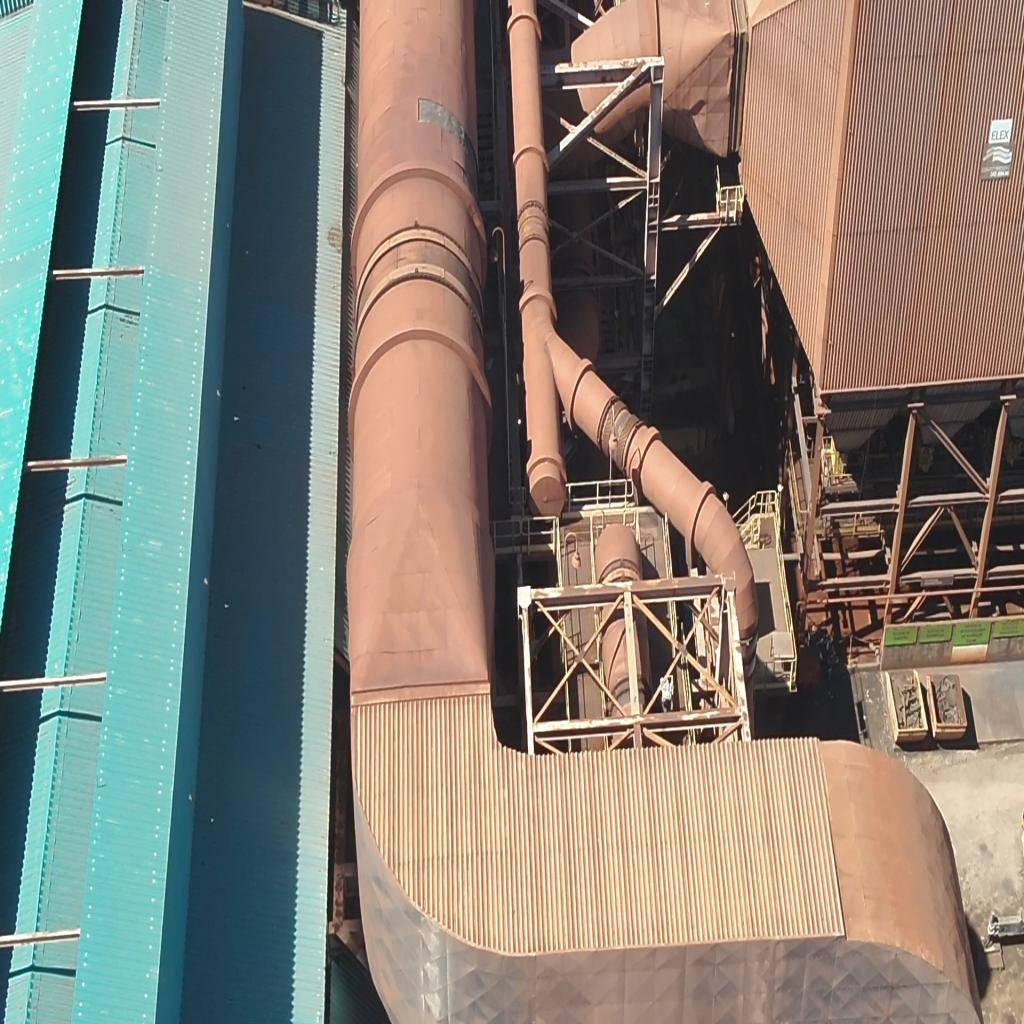Failures: (415, 92, 483, 190)
